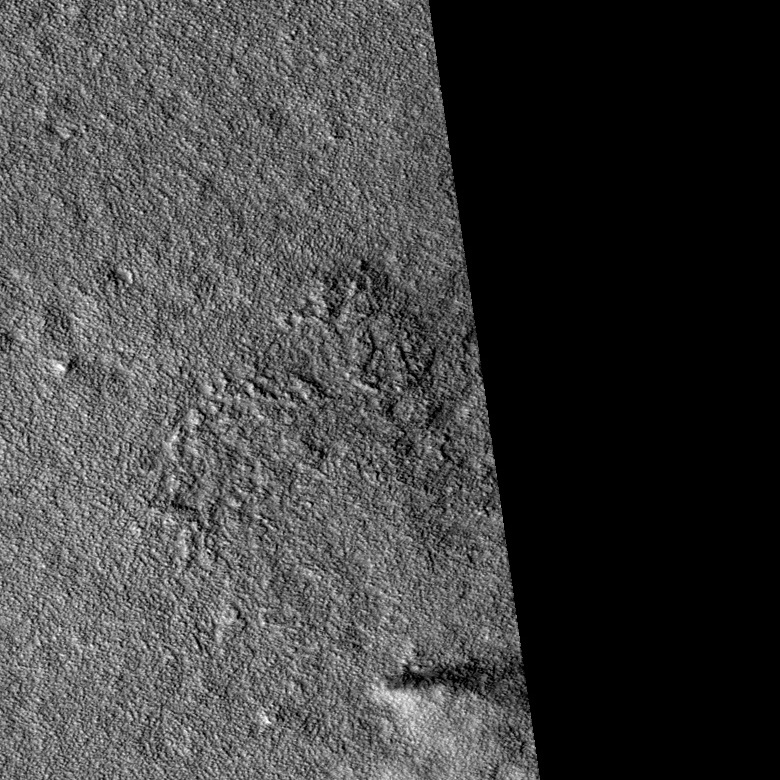dust_devil: (367, 655, 523, 735)
